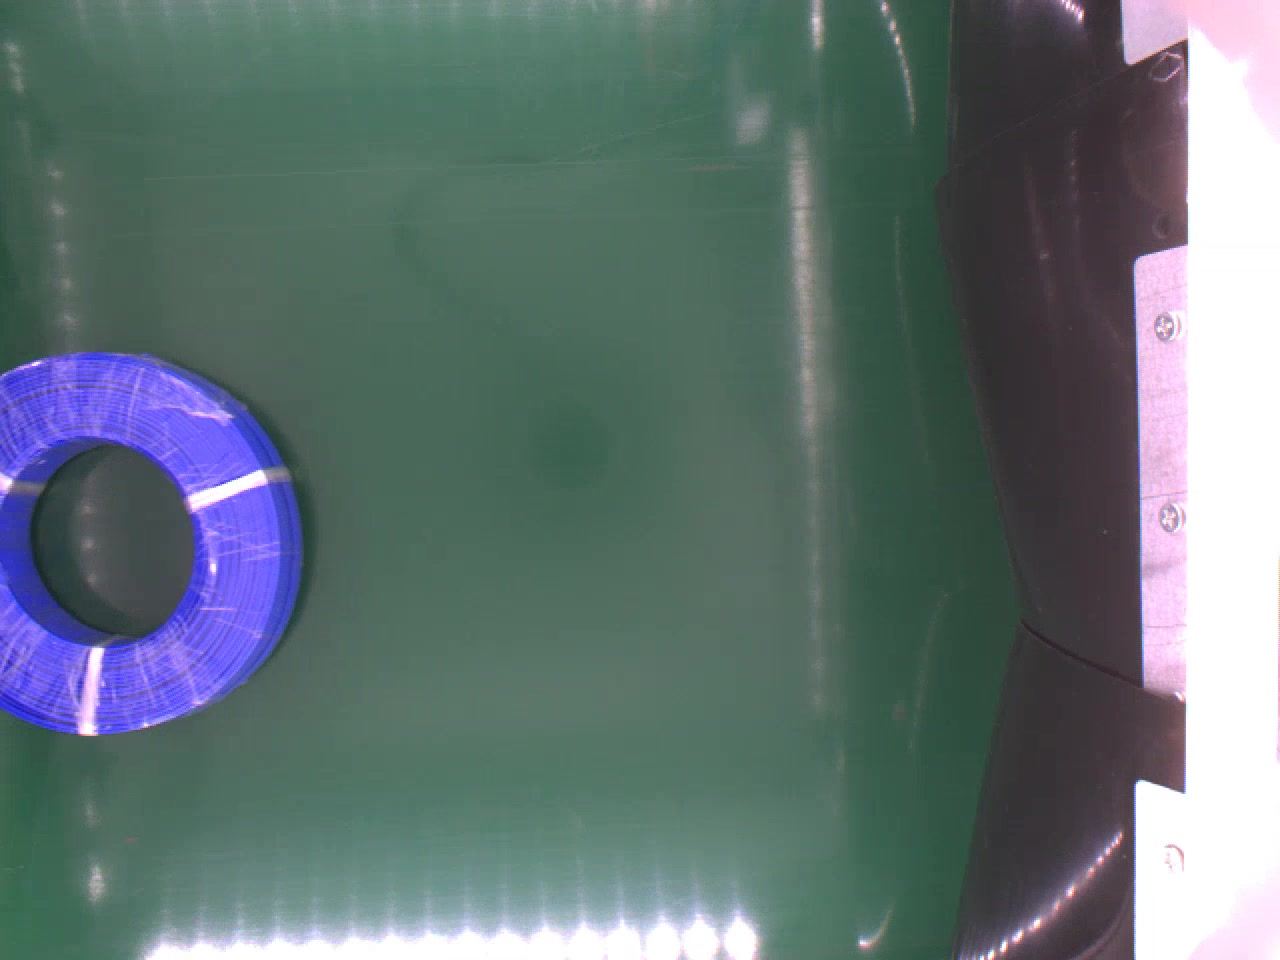blue: (0, 350, 308, 734)
